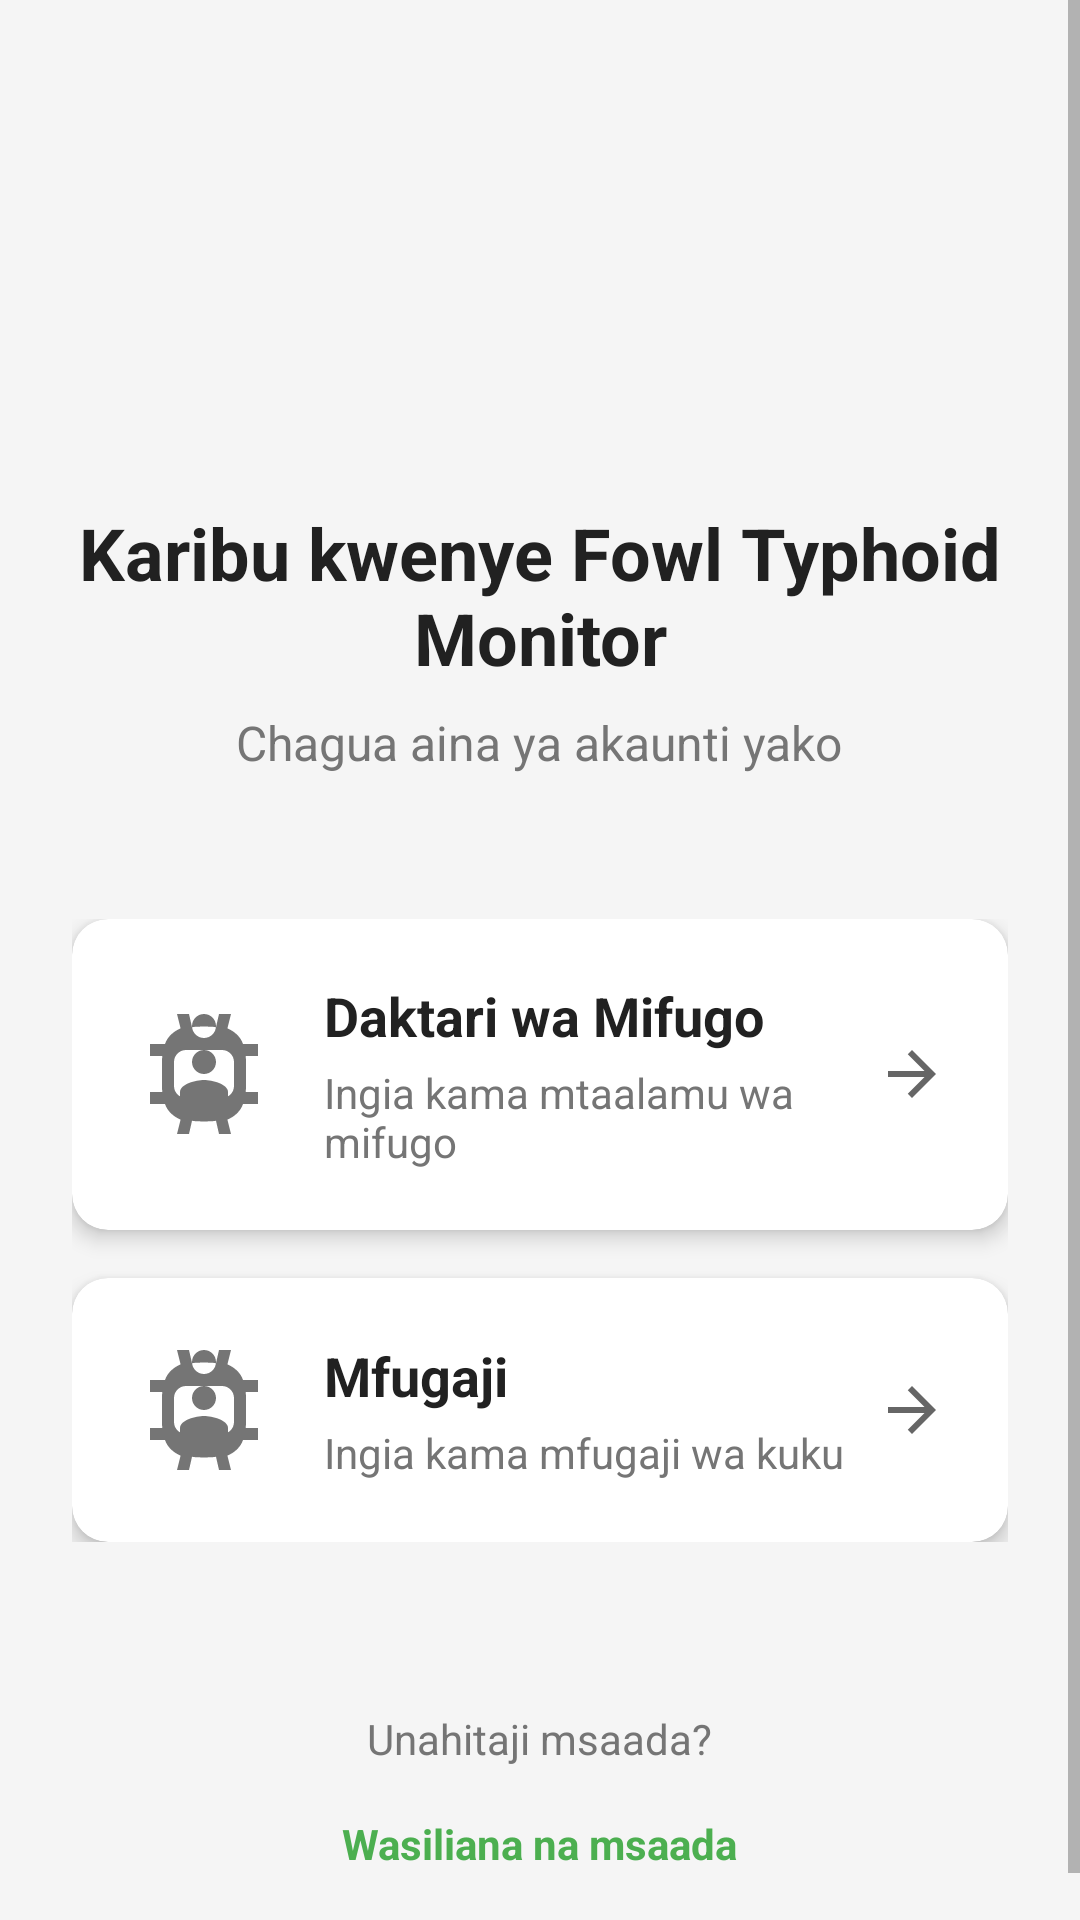

Named icons in this screenshot (1080x1920) and their bounding boxes, (x1, y1, x2, y2):
Navigate: (888, 1050, 936, 1098), (888, 1386, 936, 1434)
